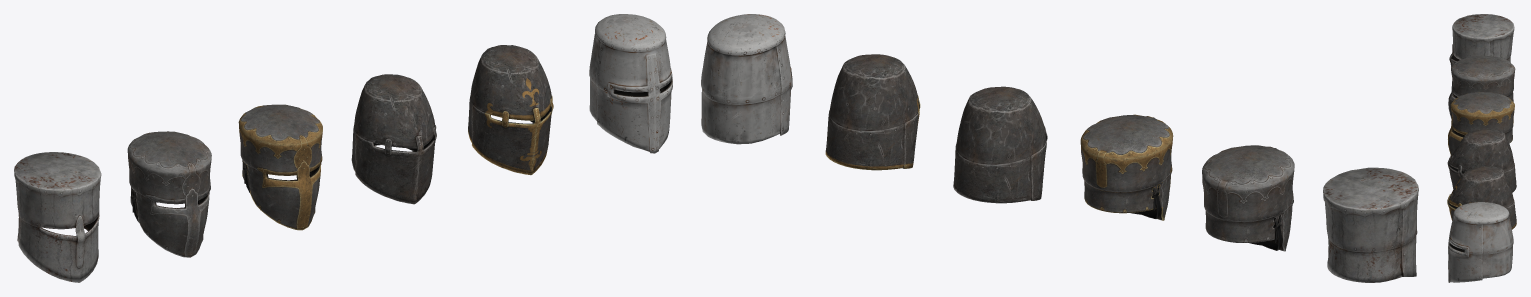
Rendered from Helmets_packed_final.fbx.
The picture shows the model from 3 angles, left to right: view 1: azimuth 30°, elevation 25°; view 2: azimuth 150°, elevation 25°; view 3: azimuth 270°, elevation 25°; orthographic projection. The views are drawn at different scales.
Parts seen in each view (by area): view 1: HELMET.003, RetopoGroup1.005, Helmet.012, Helmet.005, Helmet.001, Helmet.002; view 2: HELMET.003, RetopoGroup1.005, Helmet.012, Helmet.005, Helmet.001, Helmet.002; view 3: HELMET.003, Helmet.001, RetopoGroup1.005, Helmet.012, Helmet.002, Helmet.005.
Part boxes in pixels (x1=…): HELMET.003: x1=589, y1=14, x2=672, y2=153; RetopoGroup1.005: x1=14, y1=152, x2=101, y2=282; Helmet.012: x1=351, y1=74, x2=436, y2=204; Helmet.005: x1=468, y1=45, x2=553, y2=175; Helmet.001: x1=238, y1=104, x2=322, y2=230; Helmet.002: x1=127, y1=131, x2=211, y2=257; HELMET.003: x1=701, y1=14, x2=792, y2=144; RetopoGroup1.005: x1=1323, y1=167, x2=1418, y2=282; Helmet.012: x1=953, y1=86, x2=1047, y2=203; Helmet.005: x1=825, y1=54, x2=920, y2=170; Helmet.001: x1=1080, y1=114, x2=1173, y2=220; Helmet.002: x1=1202, y1=145, x2=1294, y2=251; HELMET.003: x1=1448, y1=202, x2=1513, y2=282; Helmet.001: x1=1448, y1=92, x2=1514, y2=155; RetopoGroup1.005: x1=1449, y1=14, x2=1514, y2=67; Helmet.012: x1=1447, y1=128, x2=1516, y2=192; Helmet.002: x1=1448, y1=55, x2=1515, y2=118; Helmet.005: x1=1447, y1=165, x2=1516, y2=229.
Bounding box in the file's own units: 381 × 64.25 × 53.34.
